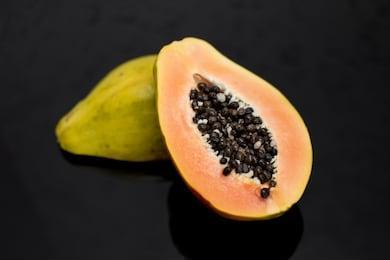papaya: (155, 35, 313, 217), (56, 55, 174, 164)
